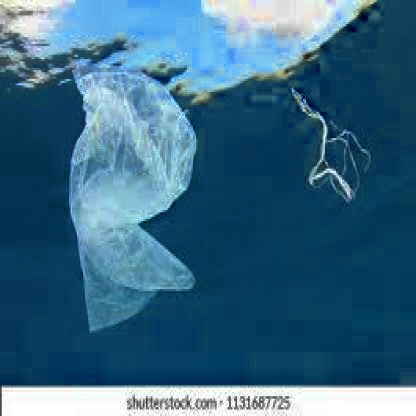pbag: (66, 63, 198, 333)
